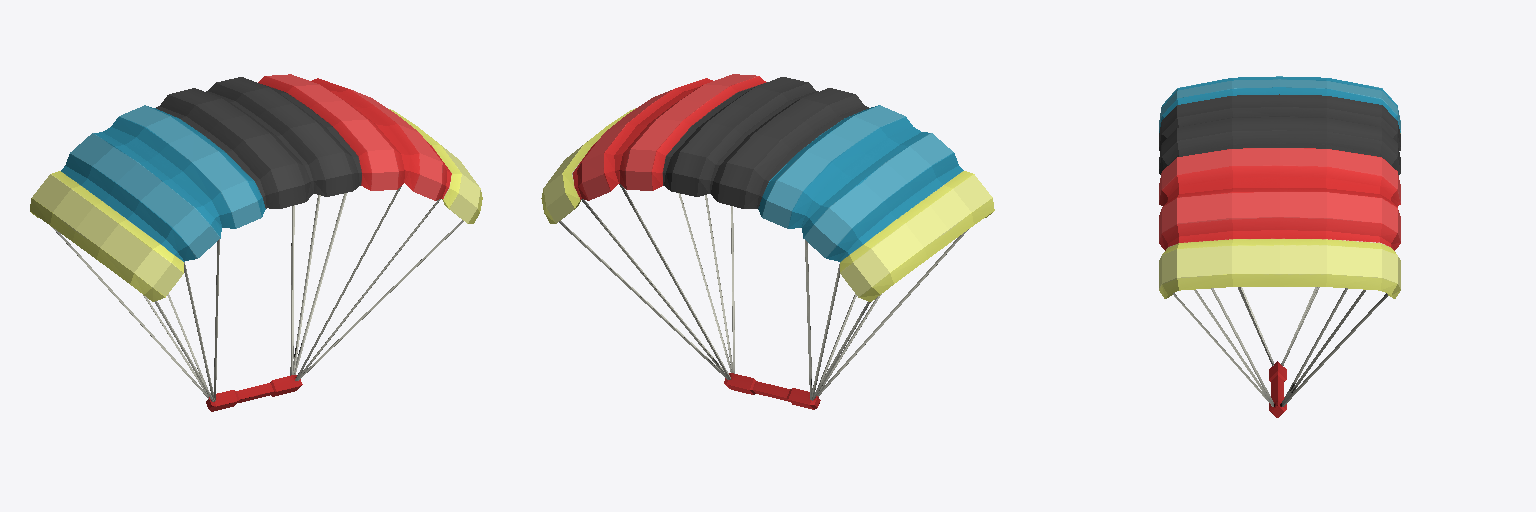
3 views of the same model, side by side, from view 1: azimuth 30°, elevation 25°; view 2: azimuth 150°, elevation 25°; view 3: azimuth 270°, elevation 25° (orthographic).
Visible parts, largest first — view 1: Parachute_mesh; view 2: Parachute_mesh; view 3: Parachute_mesh.
Part boxes in pixels (x1,y1,x2,y2): Parachute_mesh: (30, 74, 482, 411); Parachute_mesh: (541, 74, 994, 409); Parachute_mesh: (1159, 76, 1400, 417).
Bounding box in the file's own units: 9.11 × 6.83 × 5.22.
1 materials, 1 textured.